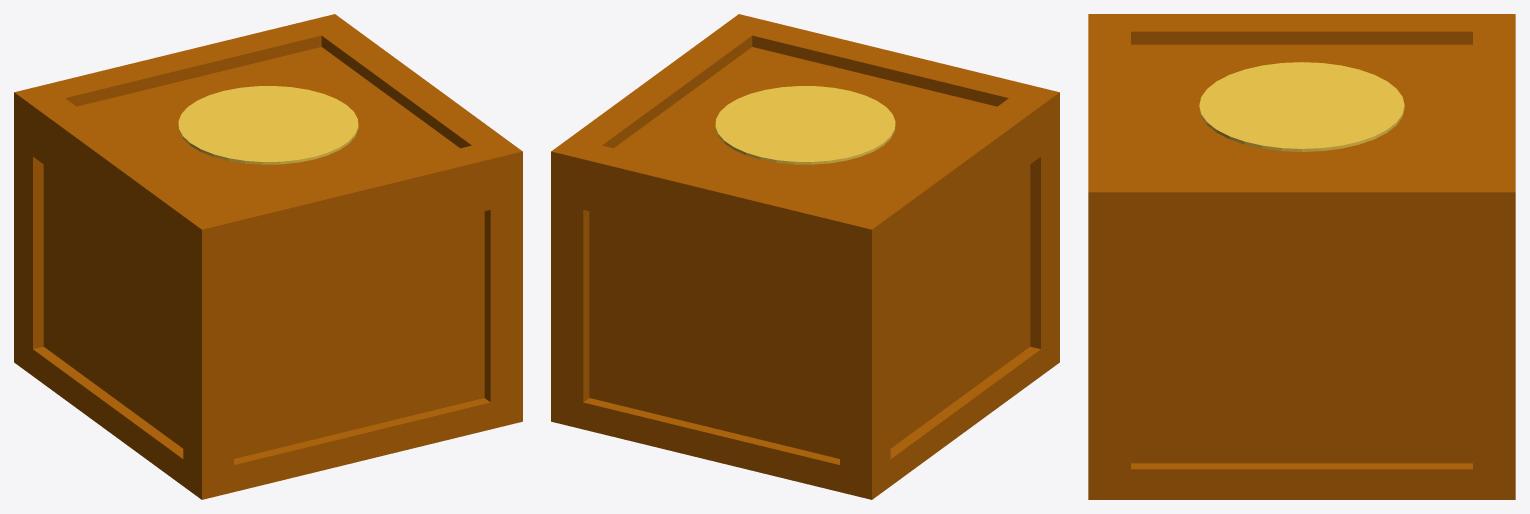
File: foodBox_Deep 1.fbx
3 views of the same model, side by side, from view 1: azimuth 30°, elevation 25°; view 2: azimuth 150°, elevation 25°; view 3: azimuth 270°, elevation 25° (orthographic). The views are drawn at different scales.
Parts seen in each view (by area): view 1: Body, top, circle; view 2: Body, top, circle; view 3: Body, top, circle.
Boxes of the visible parts, left/top/right/bottom form: Body: left=14, top=116, right=522, bottom=499; top: left=14, top=14, right=522, bottom=252; circle: left=178, top=86, right=358, bottom=164; Body: left=551, top=116, right=1059, bottom=499; top: left=551, top=14, right=1059, bottom=252; circle: left=715, top=86, right=895, bottom=164; Body: left=1088, top=219, right=1515, bottom=499; top: left=1088, top=14, right=1515, bottom=218; circle: left=1199, top=62, right=1404, bottom=151.
Size of the model in its own units: 564 by 454 by 571.
